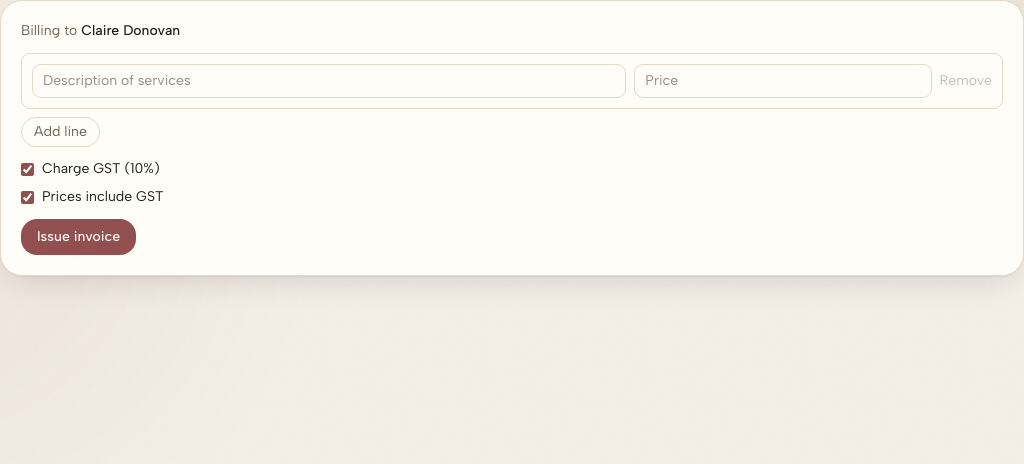
Test case: ClientInvoiceComposer › issues a GST-included client invoice from a typed line and shows PDF actions
The width and height of the screenshot is (1024, 464).
Type "Anti-wrinkle treatment" into the field named "Line 1 description".
click(329, 81); type("Anti-wrinkle treatment")  # box [32,64,626,98]
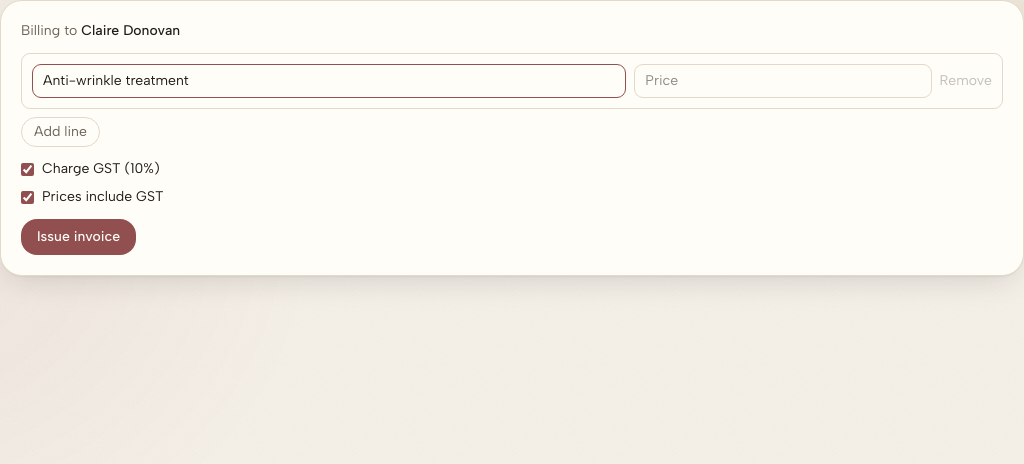
Type "330" into the field named "Line 1 amount".
click(783, 81); type("330")  # box [634,64,932,98]
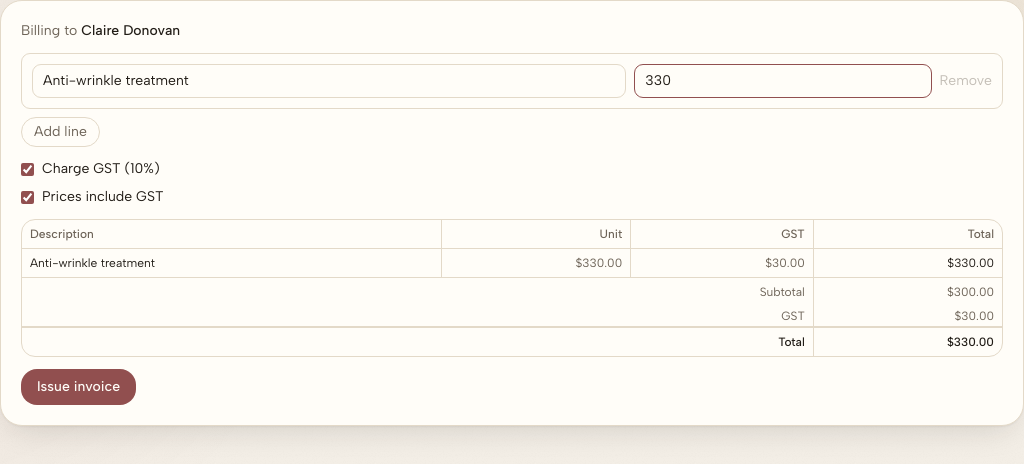
Now the text "$300.00" is shown, box [813,278,1002,306]
Now the text "$30.00" in the row of "Anti-wrinkle treatment" is shown, box [765,256,805,270]
Now the 1st text "$330.00" is shown, box [442,248,631,278]
Click the button "Issue invoice".
click(79, 387)  # box [21,369,136,405]
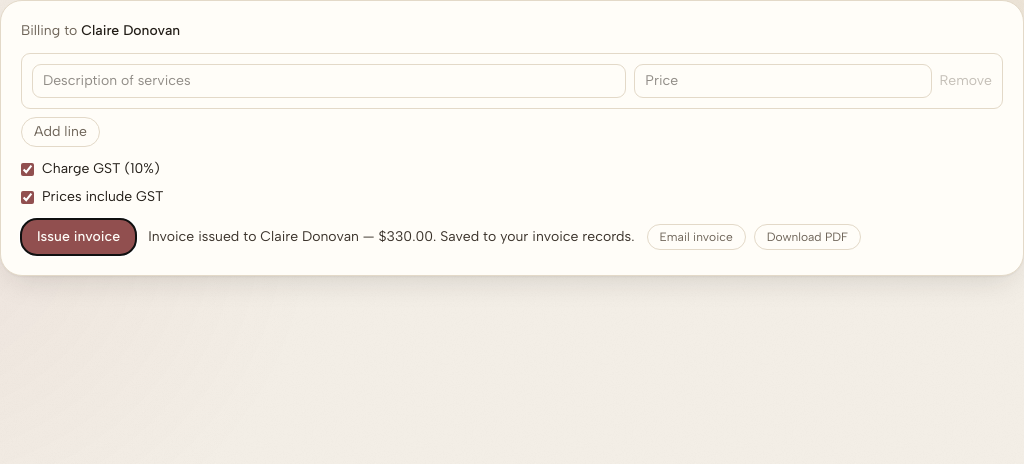
Now the button "Download PDF" is shown, box [754,224,861,250]
Now the button "Email invoice" is shown, box [646,224,746,250]
